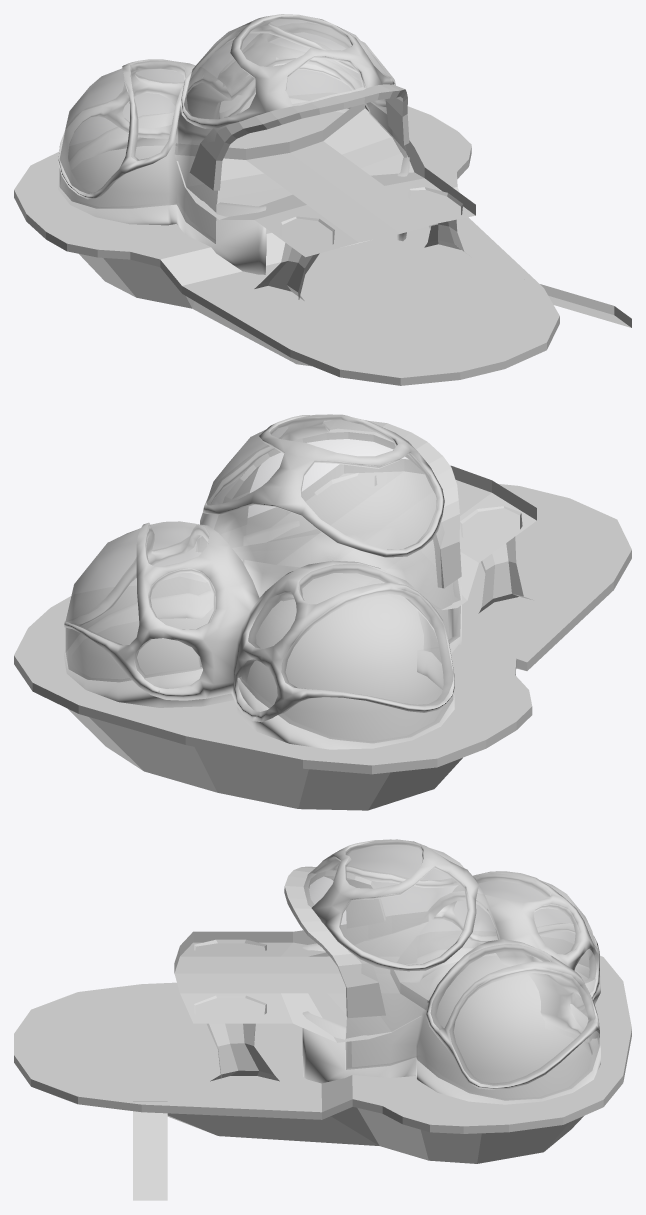
File: carecentertest.glb
3 views of the same model, one above another, from view 1: azimuth 30°, elevation 25°; view 2: azimuth 150°, elevation 25°; view 3: azimuth 270°, elevation 25° (orthographic). The views are drawn at different scales.
Parts seen in each view (by area): view 1: base01, CarecenterDome.001; view 2: base01, CarecenterDome.001; view 3: base01, CarecenterDome.001.
Boxes of the visible parts, <box> form: base01: <box>14,14,631,385</box>; CarecenterDome.001: <box>60,16,406,243</box>; base01: <box>14,414,631,810</box>; CarecenterDome.001: <box>66,414,460,742</box>; base01: <box>14,839,631,1200</box>; CarecenterDome.001: <box>304,839,599,1100</box>.
Size of what is drawn, in the model's own units: 27.26 by 16.05 by 35.93.
Materials: 1 (1 with a texture image).
